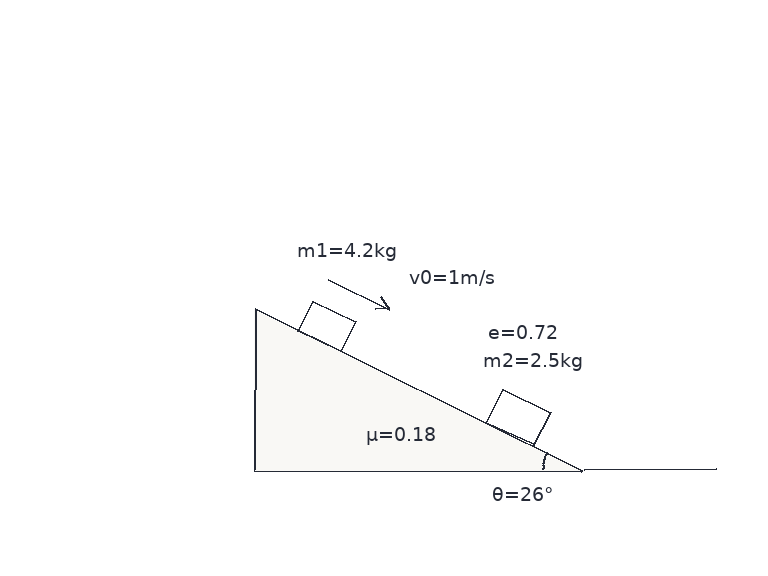block: (485, 387, 551, 447), (296, 299, 357, 353)
ramp: (252, 308, 585, 472)
